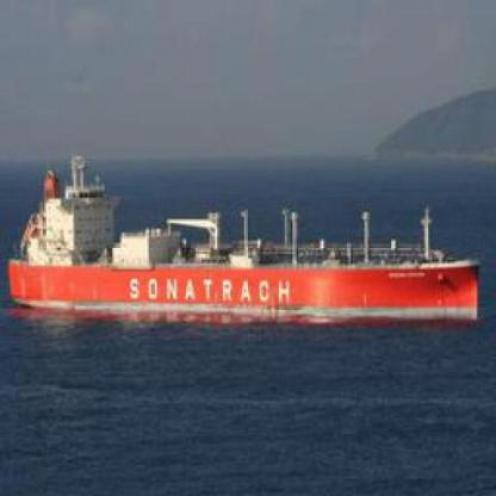Ship: (5, 171, 489, 328)
